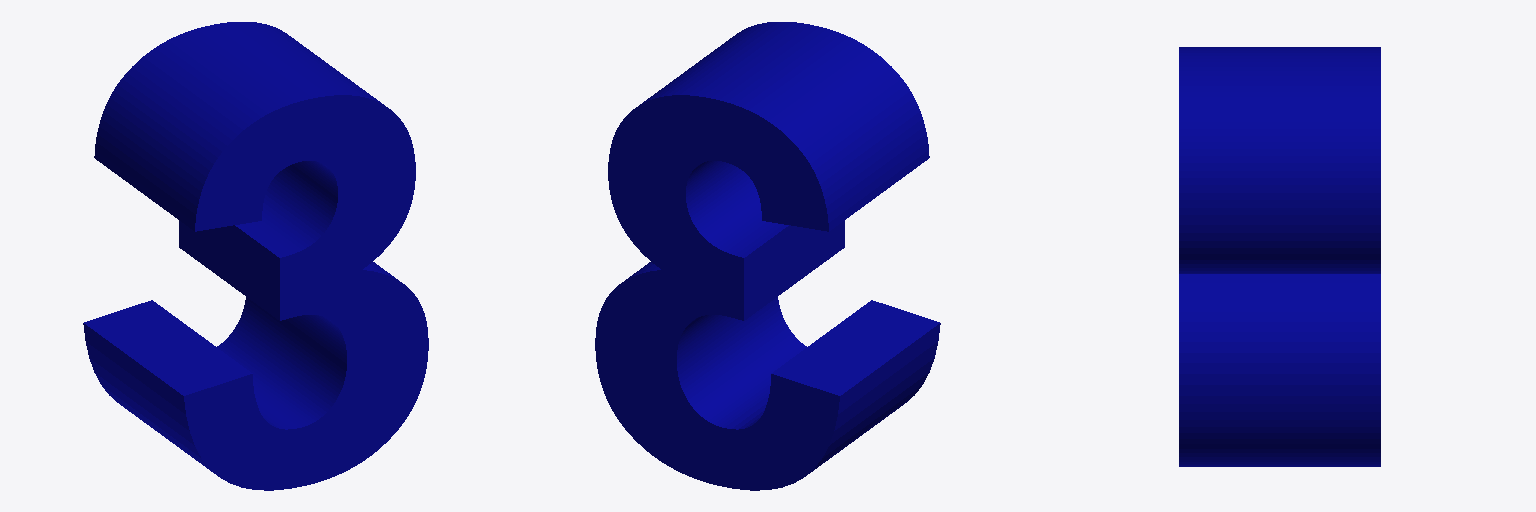
The model's file is Three.obj.
3 views of the same model, side by side, from view 1: azimuth 30°, elevation 25°; view 2: azimuth 150°, elevation 25°; view 3: azimuth 270°, elevation 25° (orthographic).
Visible parts, largest first — view 1: Text; view 2: Text; view 3: Text.
Boxes of the visible parts, box(x1,y1,x2,y2) form: Text: box(83, 22, 428, 490); Text: box(595, 22, 940, 490); Text: box(1179, 47, 1380, 466).
Size of the model in its own units: 0.3825 by 0.5757 by 0.272.